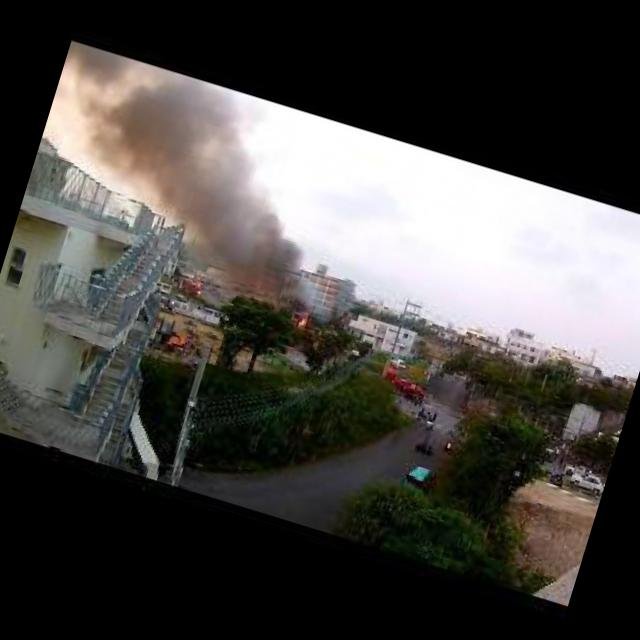fire: (296, 316, 307, 326)
smoke: (11, 40, 348, 318)
